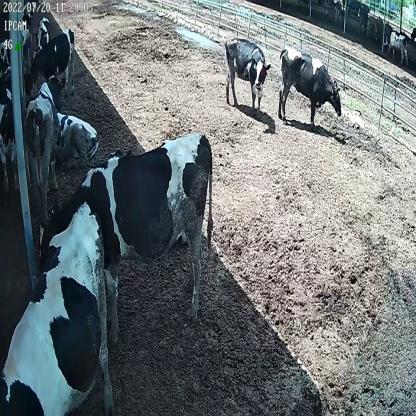cow: (35, 129, 215, 339), (26, 69, 68, 214), (276, 44, 344, 129), (222, 33, 272, 111), (26, 26, 76, 97), (34, 16, 51, 54)
